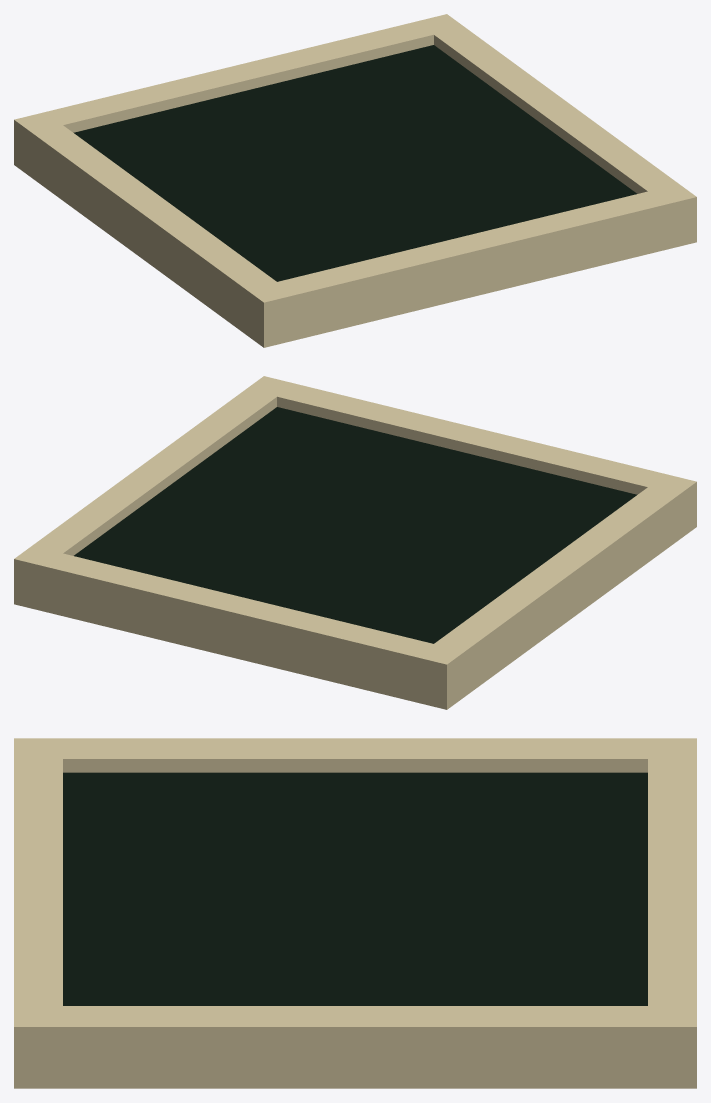
Rendered from screen.glb.
The picture shows the model from 3 angles, top to bottom: view 1: azimuth 30°, elevation 25°; view 2: azimuth 150°, elevation 25°; view 3: azimuth 270°, elevation 25°; orthographic projection. The views are drawn at different scales.
Parts seen in each view (by area): view 1: Cube; view 2: Cube; view 3: Cube.
Part boxes in pixels (box(x1,y1,x2,y2)): Cube: box(14, 14, 696, 347); Cube: box(14, 376, 696, 709); Cube: box(14, 738, 696, 1088).
Bounding box in the file's own units: 2 × 0.2 × 2.
